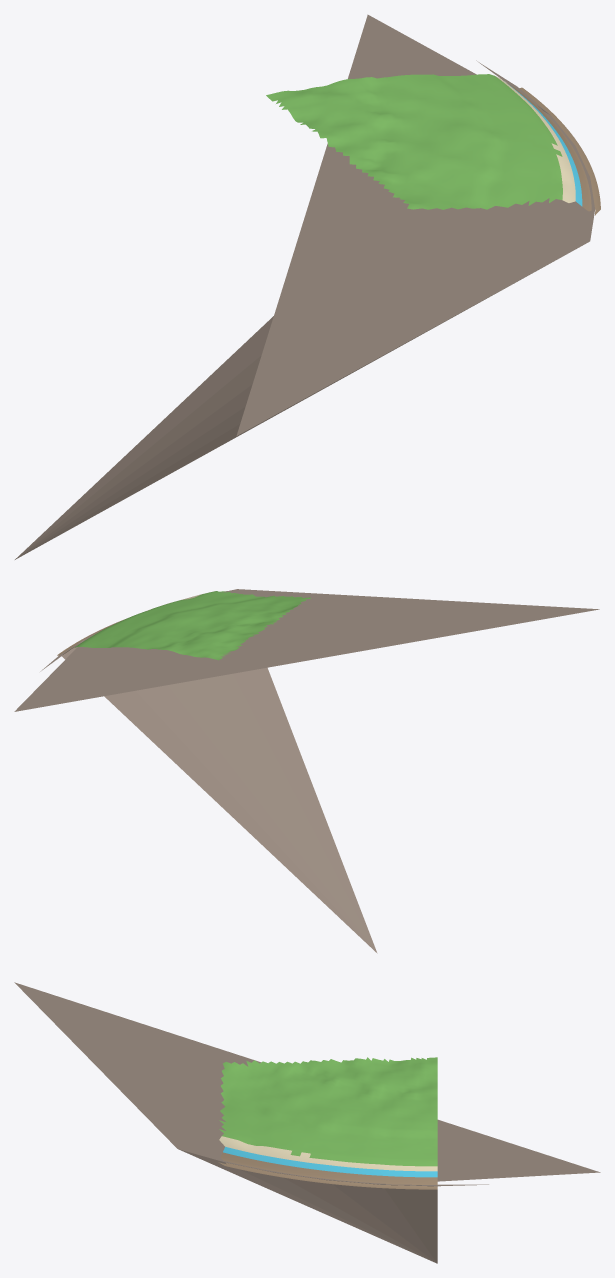
Rendered from flagship_terrain_31.glb.
3 renders of one model, top to bottom at view 1: azimuth 30°, elevation 25°; view 2: azimuth 150°, elevation 25°; view 3: azimuth 270°, elevation 25°, orthographic. The views are drawn at different scales.
Parts seen in each view (by area): view 1: Terrain_31; view 2: Terrain_31; view 3: Terrain_31.
Boxes of the visible parts, x1,y1,x2,y2 form: Terrain_31: [15, 14, 600, 559]; Terrain_31: [14, 589, 599, 953]; Terrain_31: [14, 982, 600, 1263].
Bounding box in the file's own units: 137 × 91.98 × 165.
